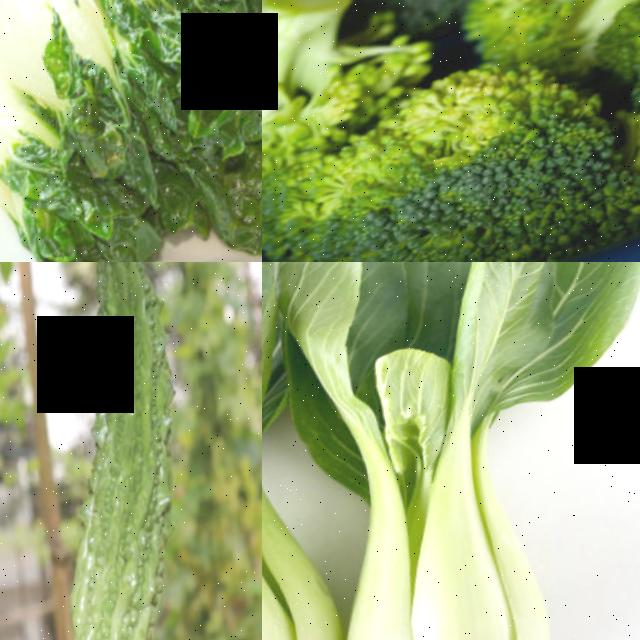-: (262, 69, 640, 262)
bitter gourd: (0, 262, 262, 640)
bok choy: (262, 262, 640, 640), (0, 0, 262, 262), (262, 262, 384, 640)
broccoli: (262, 0, 408, 160)
